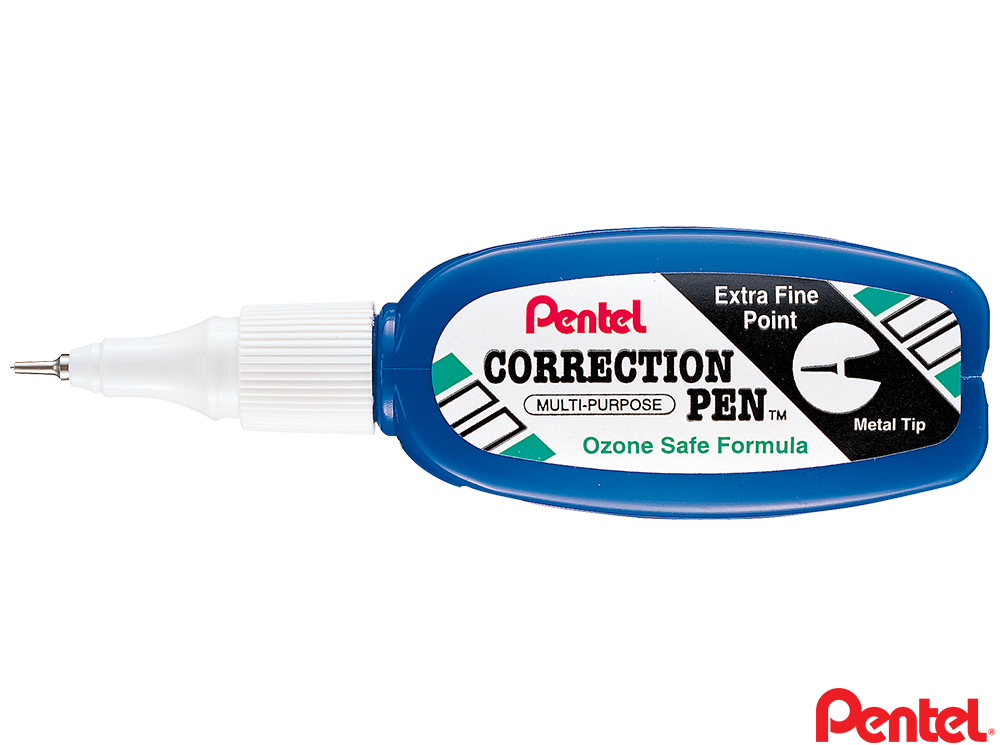Correction_fluid: (8, 216, 1000, 527)
